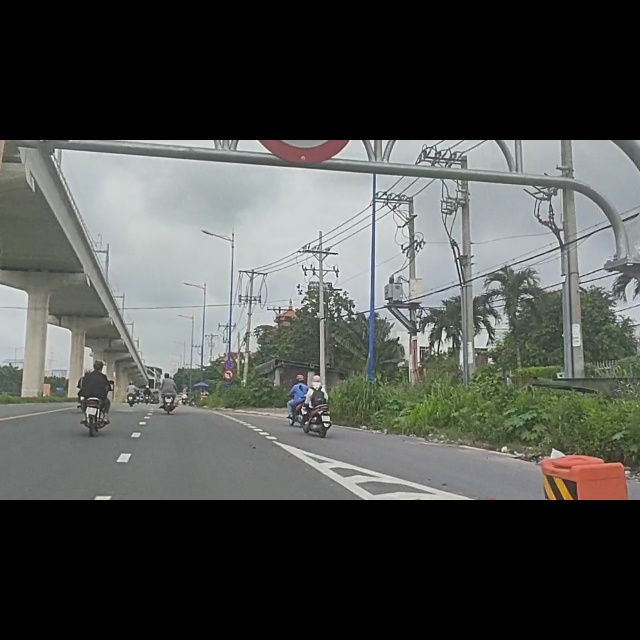bien_cam: (224, 391, 234, 408), (224, 409, 234, 425)
